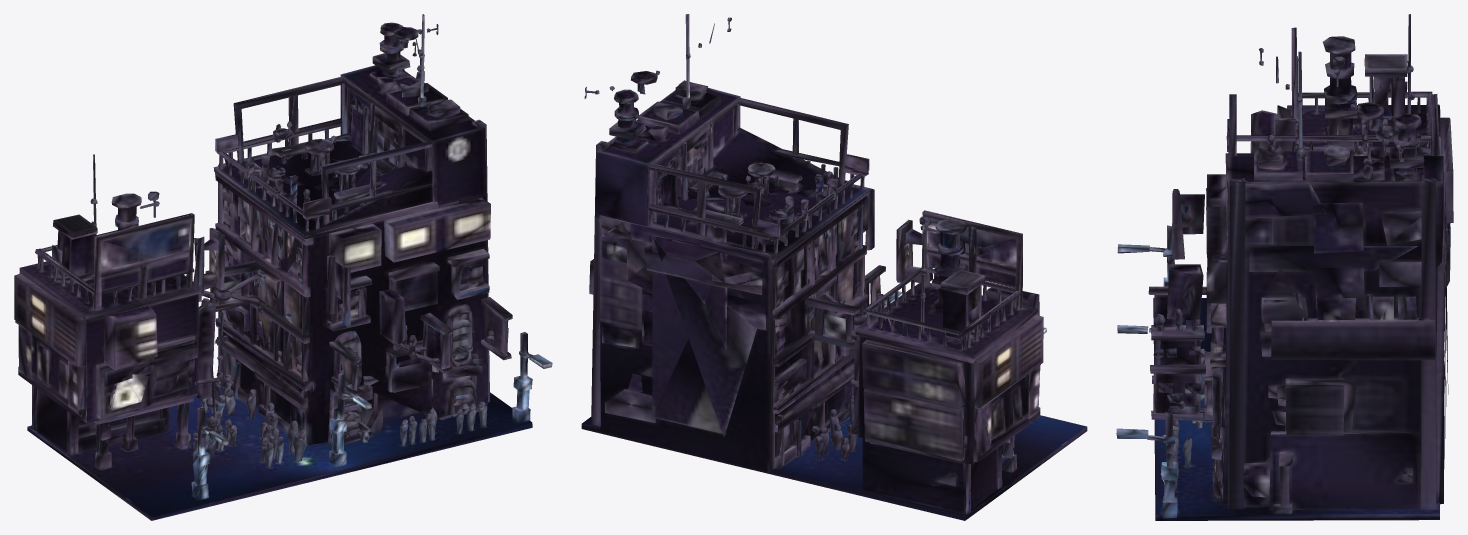
File: ShoppingBlock.glb
The picture shows the model from 3 angles, left to right: view 1: azimuth 30°, elevation 25°; view 2: azimuth 150°, elevation 25°; view 3: azimuth 270°, elevation 25°; orthographic projection. The views are drawn at different scales.
Parts seen in each view (by area): view 1: Mesh_0; view 2: Mesh_0; view 3: Mesh_0.
Part boxes in pixels (x1,y1,x2,y2): Mesh_0: [14, 14, 552, 520]; Mesh_0: [581, 14, 1087, 520]; Mesh_0: [1116, 14, 1453, 520].
Size of the model in its own units: 24 by 21.36 by 14.75.
Materials: 1 (1 with a texture image).
